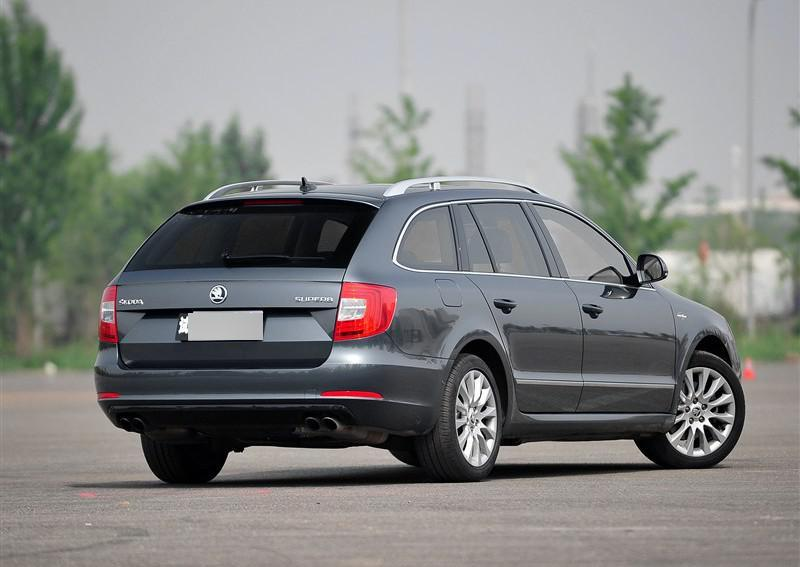Wagon: (93, 175, 747, 482)
